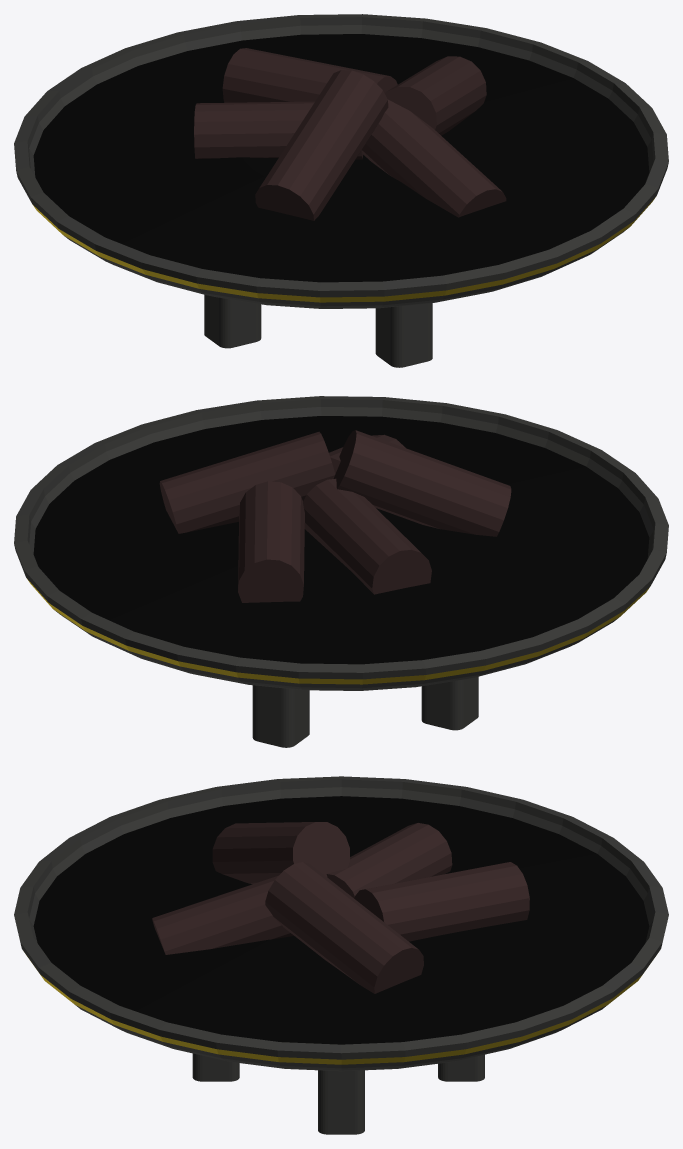
The model's file is Large Firebowl Fine.fbx.
3 renders of one model, top to bottom at view 1: azimuth 30°, elevation 25°; view 2: azimuth 150°, elevation 25°; view 3: azimuth 270°, elevation 25°, orthographic.
Parts seen in each view (by area): view 1: Große Feuerschale Reich; view 2: Große Feuerschale Reich; view 3: Große Feuerschale Reich.
Part boxes in pixels (x1=…): Große Feuerschale Reich: x1=14, y1=14, x2=668, y2=367; Große Feuerschale Reich: x1=14, y1=396, x2=668, y2=747; Große Feuerschale Reich: x1=14, y1=776, x2=668, y2=1134.
Bounding box in the file's own units: 100 × 41.9 × 100.
